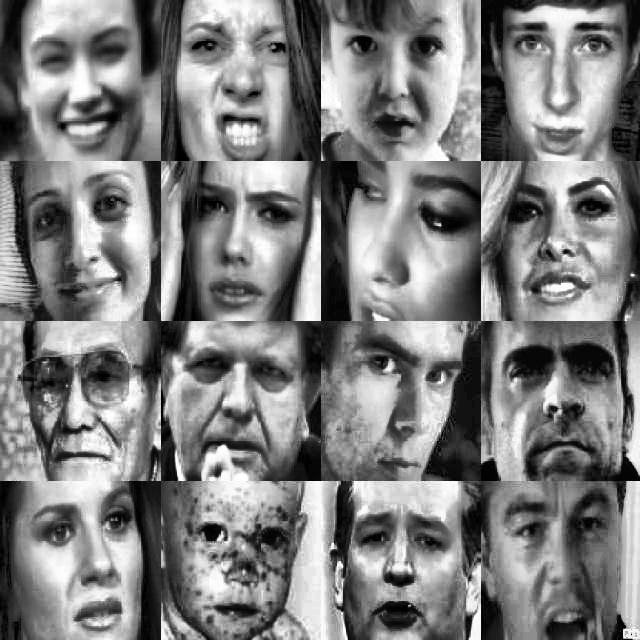angry: (494, 478, 622, 640), (342, 325, 465, 479), (175, 332, 303, 474), (331, 9, 462, 147), (181, 14, 303, 158)
fear: (184, 170, 308, 313)
happy: (18, 162, 154, 313), (24, 18, 142, 155)
neutral: (492, 164, 626, 308), (492, 331, 620, 473), (498, 11, 624, 155), (178, 491, 296, 634)
sad: (342, 165, 478, 319), (10, 331, 144, 473), (26, 480, 142, 636), (338, 498, 455, 638)
